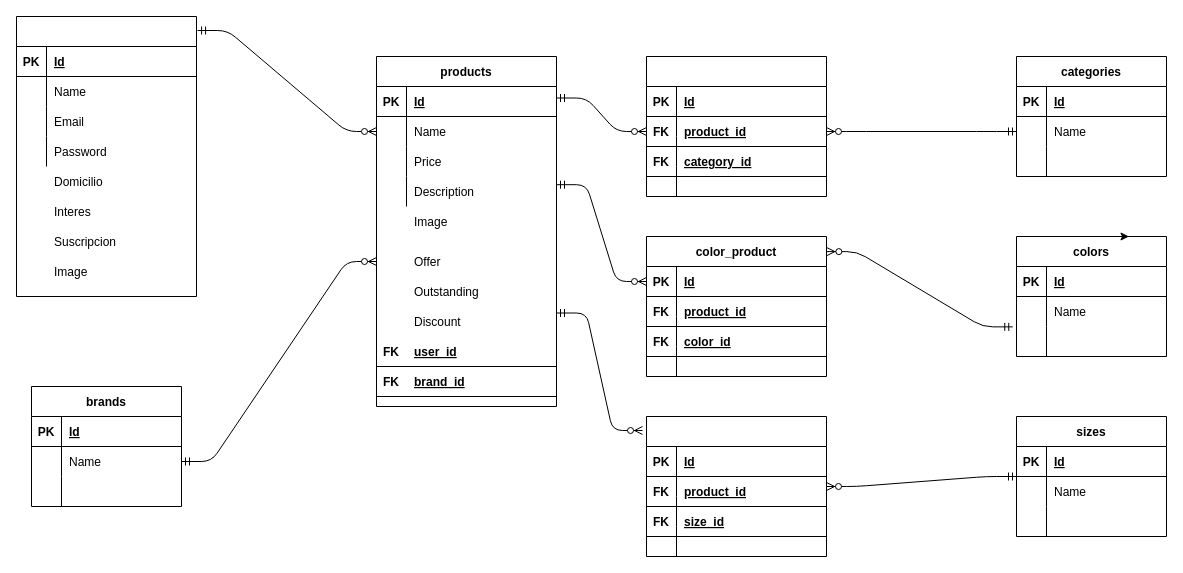
Some shapes in this 1183 by 573 pixel diagram are drawn without their labels. Each missing label, with the box of its shape:
category_product: (646, 56, 826, 196)
size_product: (646, 416, 826, 556)
users: (16, 16, 196, 296)
